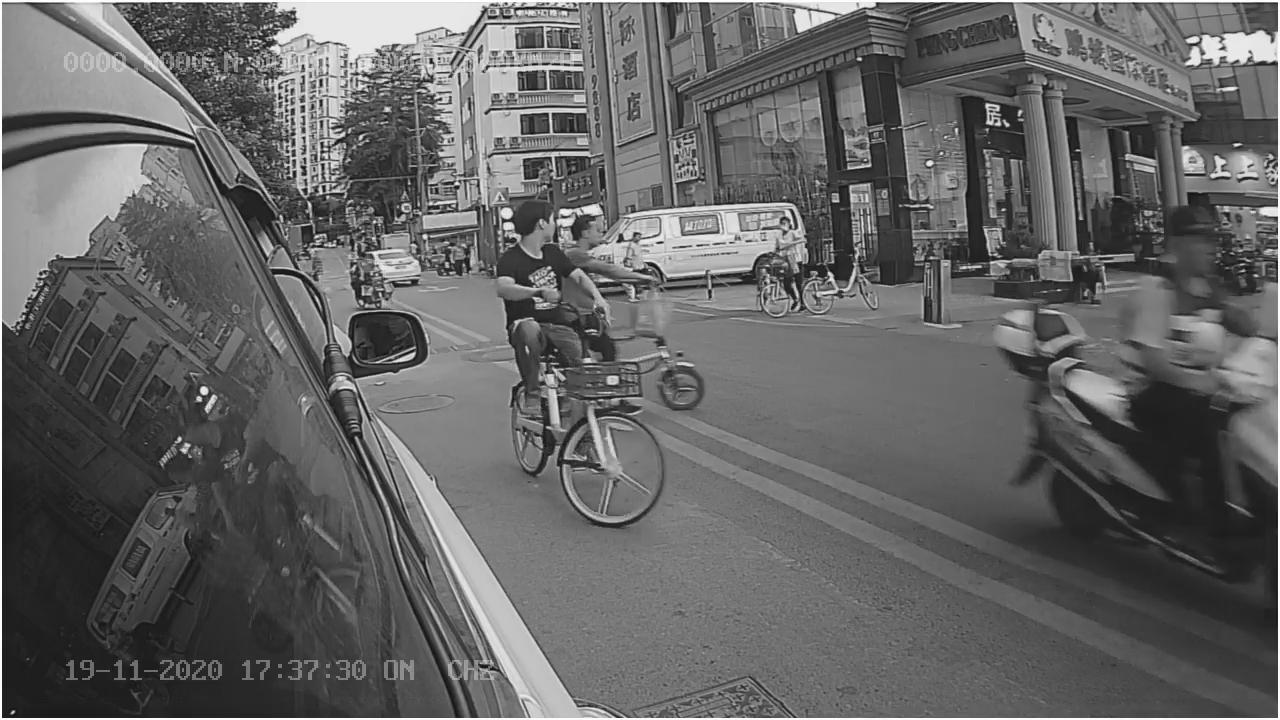person: (493, 196, 577, 305)
